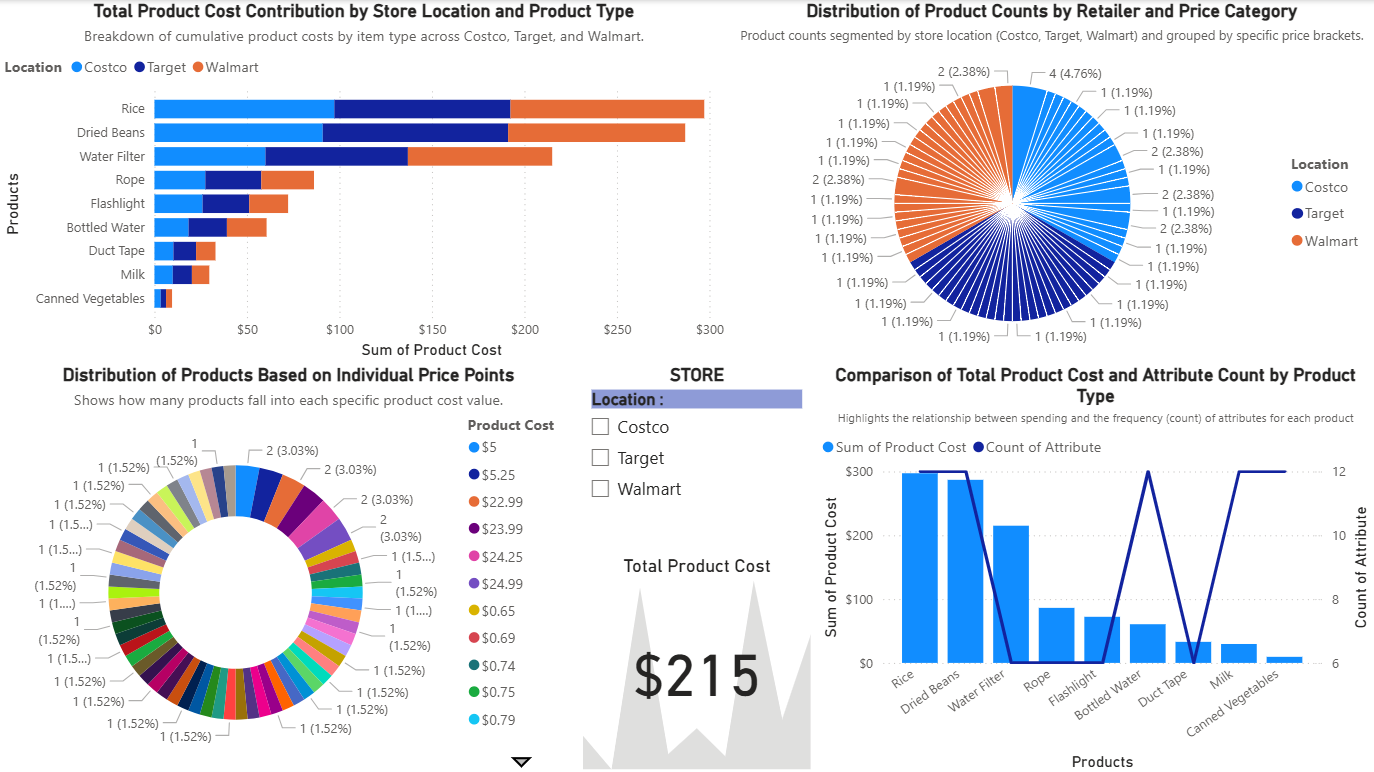

The page's visual inventory and layout, read from the dashboard file:
{"tool":"powerbi","page":{"name":"Page 1","canvas":[1280,720],"ordinal":0},"visuals":[{"type":"barChart","title":"Total Product Cost Contribution by Store Location and Product Type","fields":{"Category":["Puchase Overview.Products"],"Y":["Sum(Puchase Overview.Product Cost)"],"Series":["Puchase Overview.Location"]},"box":[0,0,679.1,338.4],"z":0},{"type":"pieChart","title":"Distribution of Product Counts by Retailer and Price Category","fields":{"Category":["Puchase Overview.Location"],"Y":["CountNonNull(Puchase Overview.Products)"],"Series":["Puchase Overview.Product Cost"]},"box":[679.7,0,600.8,338.1],"z":1000},{"type":"slicer","title":"STORE","fields":{"Values":["Puchase Overview.Location"]},"box":[538.8,338.1,222,178.1],"z":2000},{"type":"lineStackedColumnComboChart","title":"Comparison of Total Product Cost and Attribute Count by Product Type","fields":{"Category":["Puchase Overview.Products"],"Y":["Sum(Puchase Overview.Product Cost)"],"Y2":["CountNonNull(Puchase Overview.Attribute)"]},"box":[760.8,338.1,519.6,383.2],"z":3000},{"type":"donutChart","title":"Distribution of Products Based on Individual Price Points","fields":{"Y":["Count(Puchase Overview.Products)"],"Category":["Puchase Overview.Product Cost"]},"box":[0,338.1,538.8,383.2],"z":4000},{"type":"kpi","title":"Total Product Cost","fields":{"TrendLine":["Puchase Overview.Products"],"Indicator":["Sum(Puchase Overview.Product Cost)"]},"box":[538.4,516.3,222.1,204.7],"z":5000}]}

Visuals, with their boxes in screenshot pixels (x1, y1, x2, y2), scaled from the page's 1280x720 canvas onto the 1374x772 screenshot:
"Total Product Cost Contribution by Store Location and Product Type" barChart: 0 0 729 363
"Distribution of Product Counts by Retailer and Price Category" pieChart: 730 0 1373 363
"STORE" slicer: 578 363 817 553
"Comparison of Total Product Cost and Attribute Count by Product Type" lineStackedColumnComboChart: 817 363 1373 771
"Distribution of Products Based on Individual Price Points" donutChart: 0 363 578 771
"Total Product Cost" kpi: 578 554 816 771
